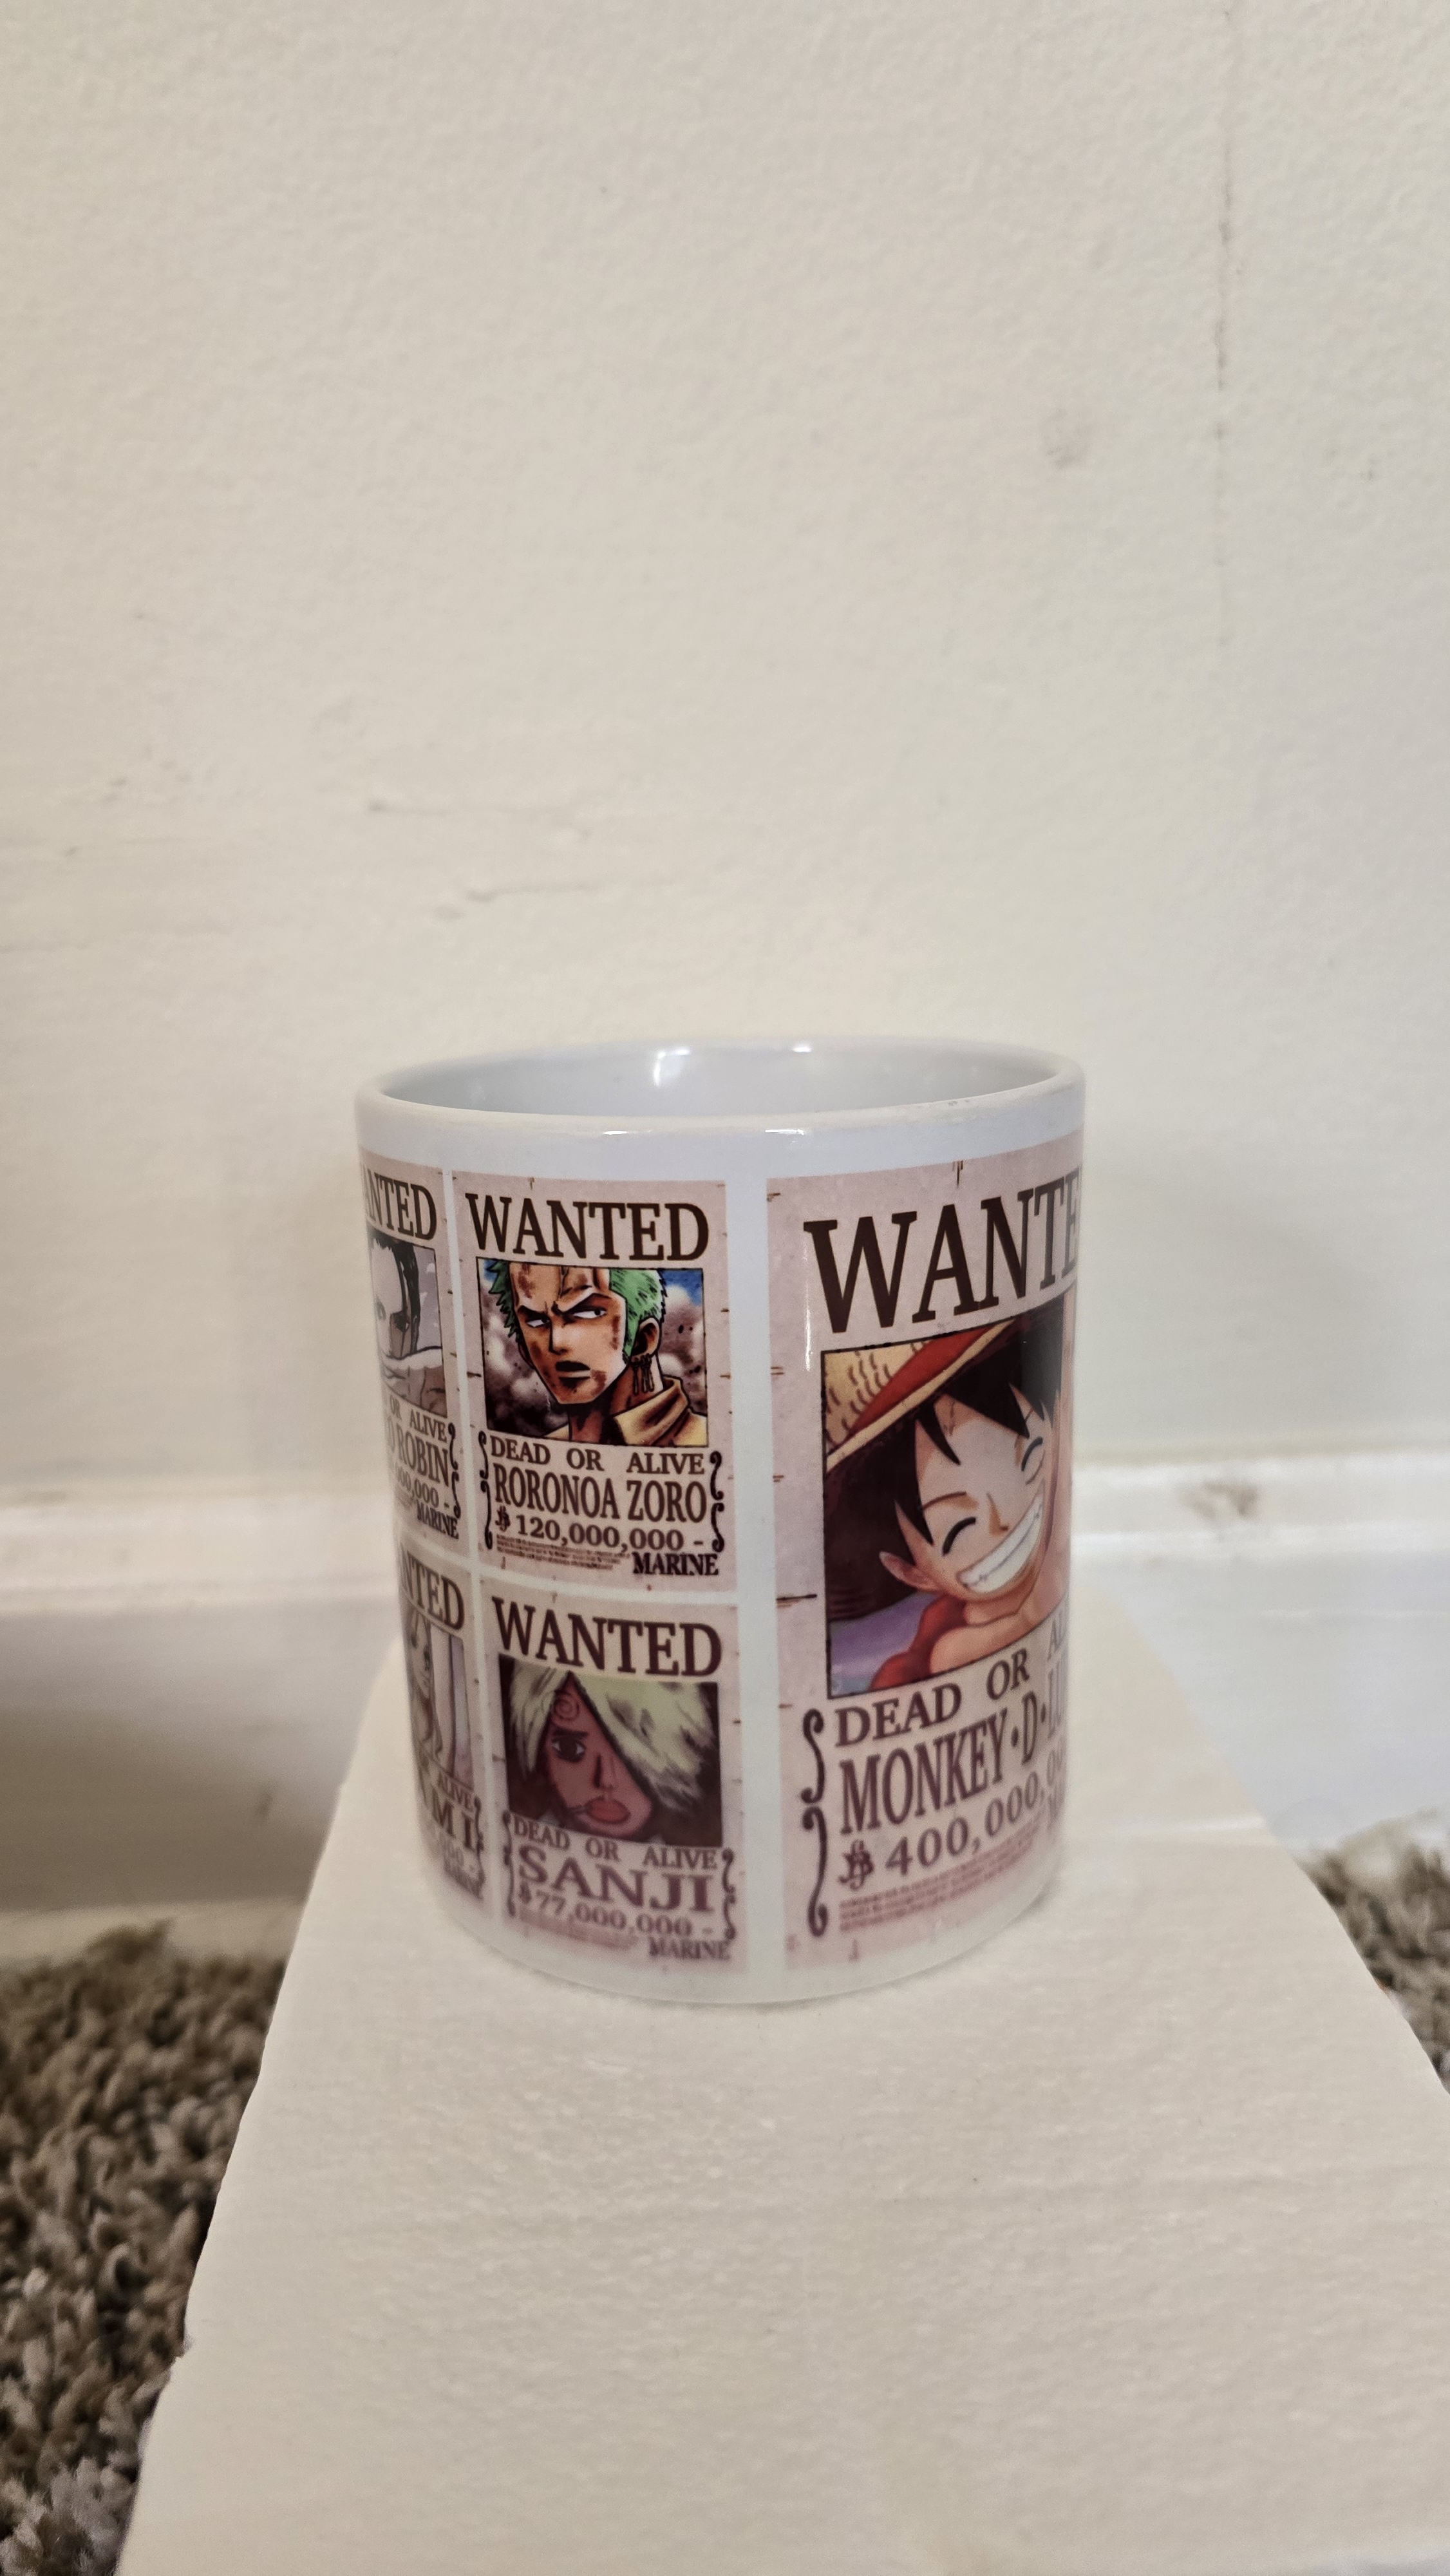mug: (299, 973, 1199, 2015)
